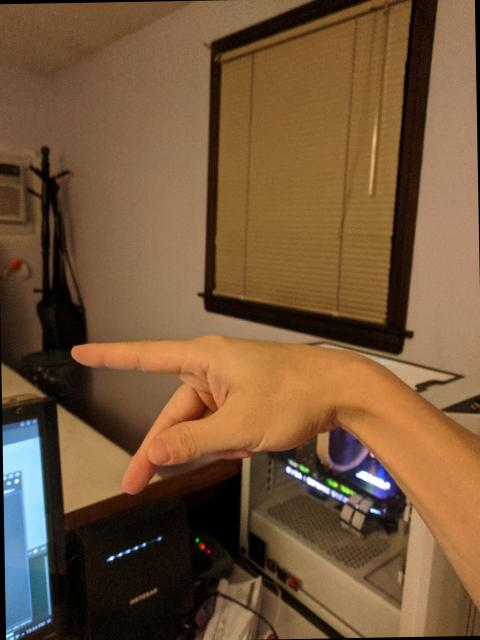P: (68, 327, 342, 500)
